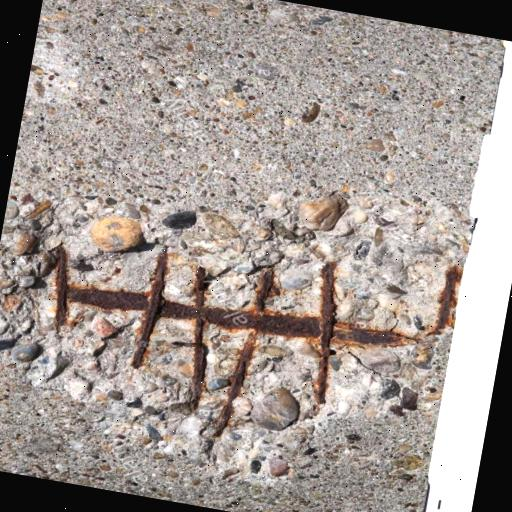spalling: (0, 181, 451, 490)
